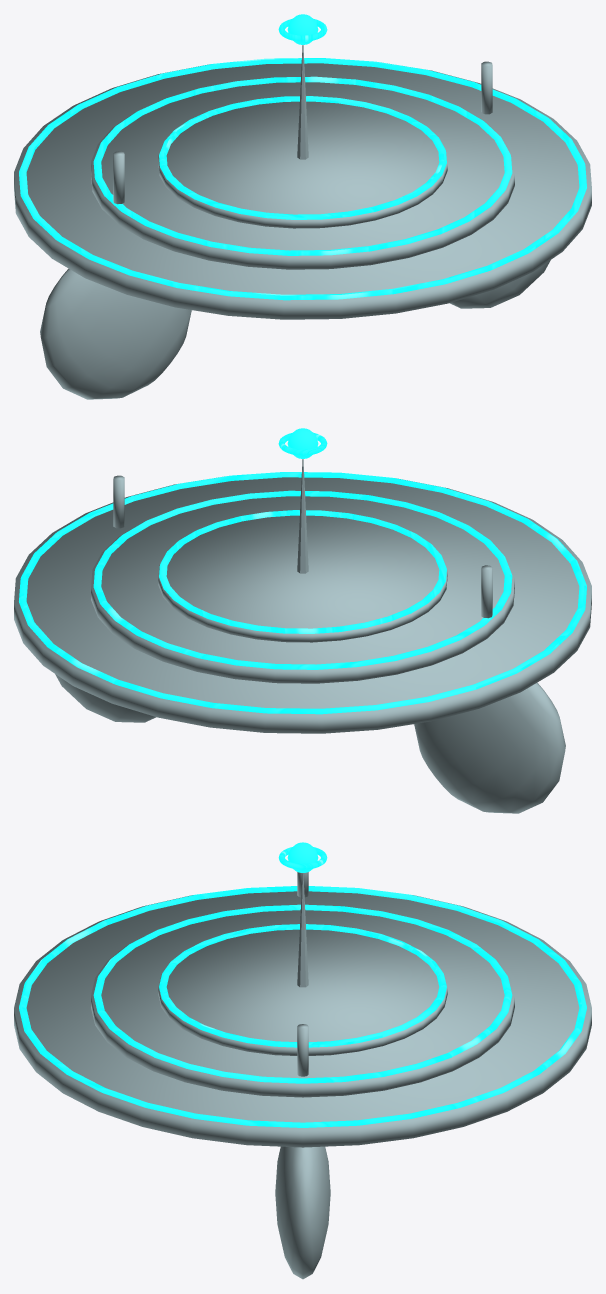
Rendered from azure_matrix_warp.glb.
The picture shows the model from 3 angles, top to bottom: view 1: azimuth 30°, elevation 25°; view 2: azimuth 150°, elevation 25°; view 3: azimuth 270°, elevation 25°; orthographic projection.
Visible parts, largest first — view 1: AzureMatrixWarp; view 2: AzureMatrixWarp; view 3: AzureMatrixWarp.
Boxes of the visible parts, x1,y1,x2,y2 form: AzureMatrixWarp: [14, 14, 591, 399]; AzureMatrixWarp: [14, 428, 591, 813]; AzureMatrixWarp: [14, 842, 591, 1279].
Size of the model in its own units: 6.27 by 3.86 by 6.
2 materials, 2 textured.
